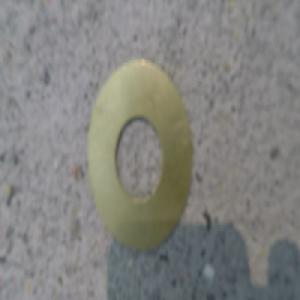Washer: (86, 59, 191, 248)
